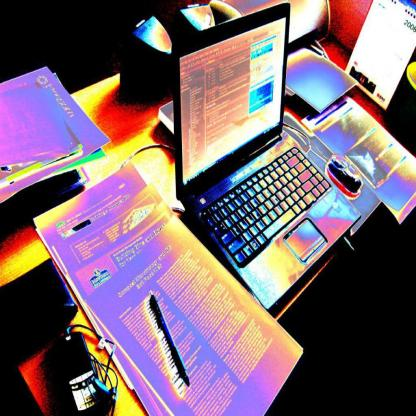board: (168, 12, 376, 339)
